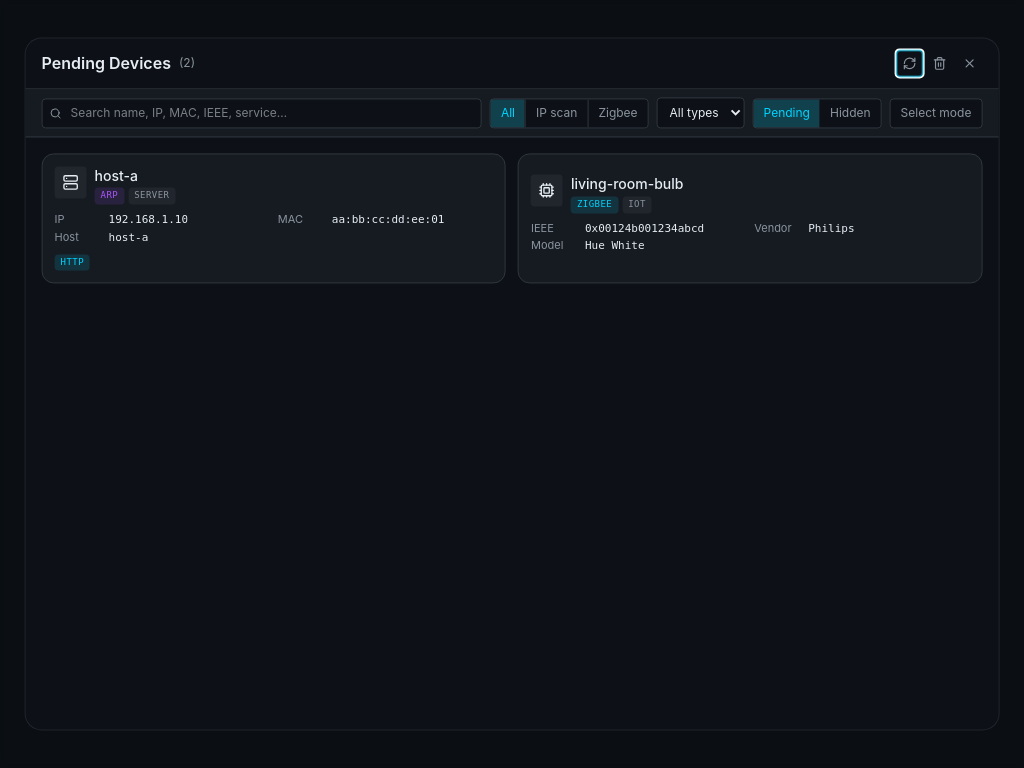
Scenario: PendingDevicesModal › toggles selection in select mode instead of opening approval
Check: the button with test id "pending-card-dev-a" is shown, box x1=42 y1=153 x2=506 y2=284
Click the button "Select mode" at coordinates (936, 113), box x1=890 y1=98 x2=982 y2=128
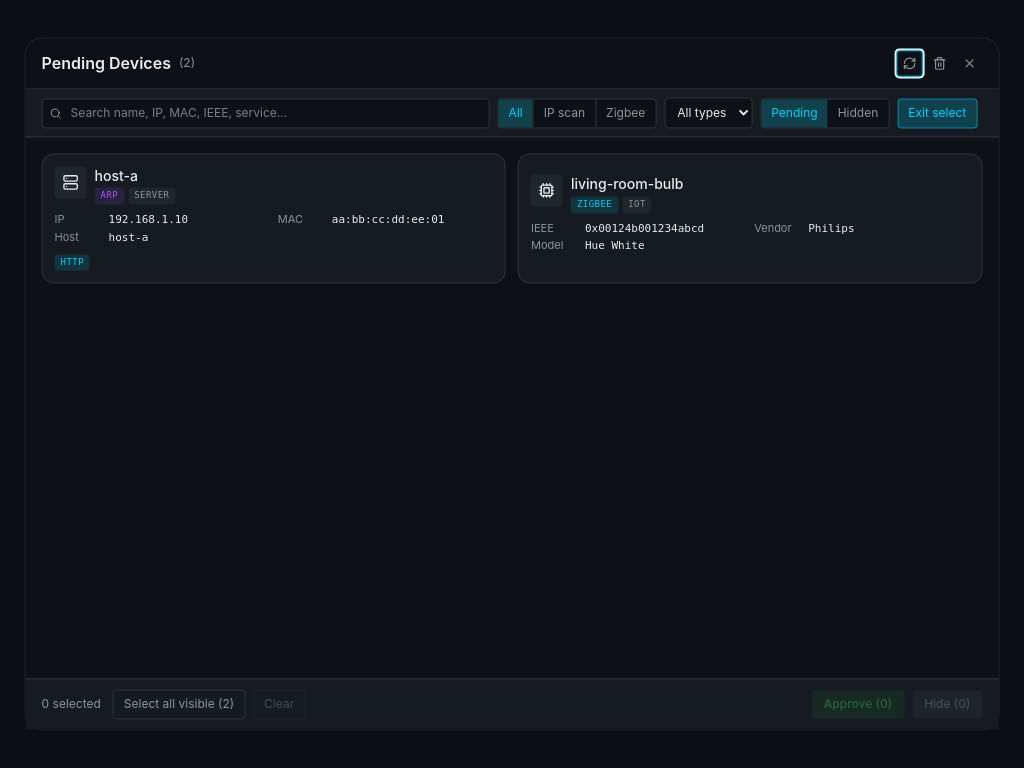
Click the button with test id "pending-card-dev-a" at coordinates (71, 182), box x1=42 y1=153 x2=506 y2=284
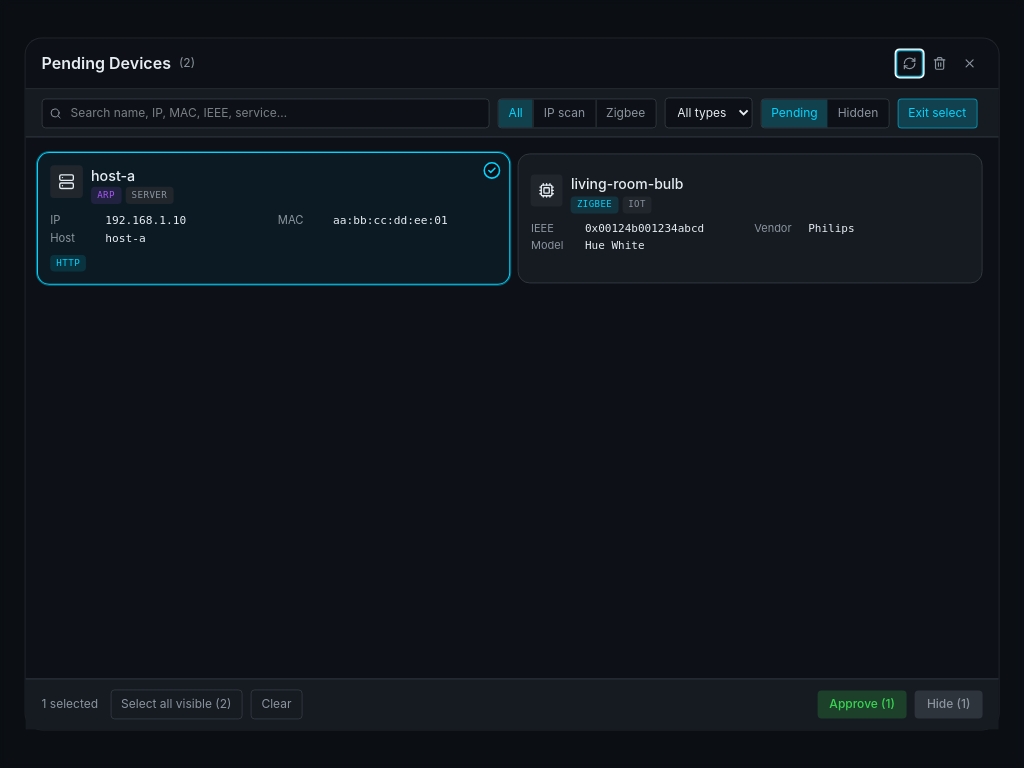
Check: the text "1 selected" is shown, box x1=42 y1=697 x2=98 y2=713
